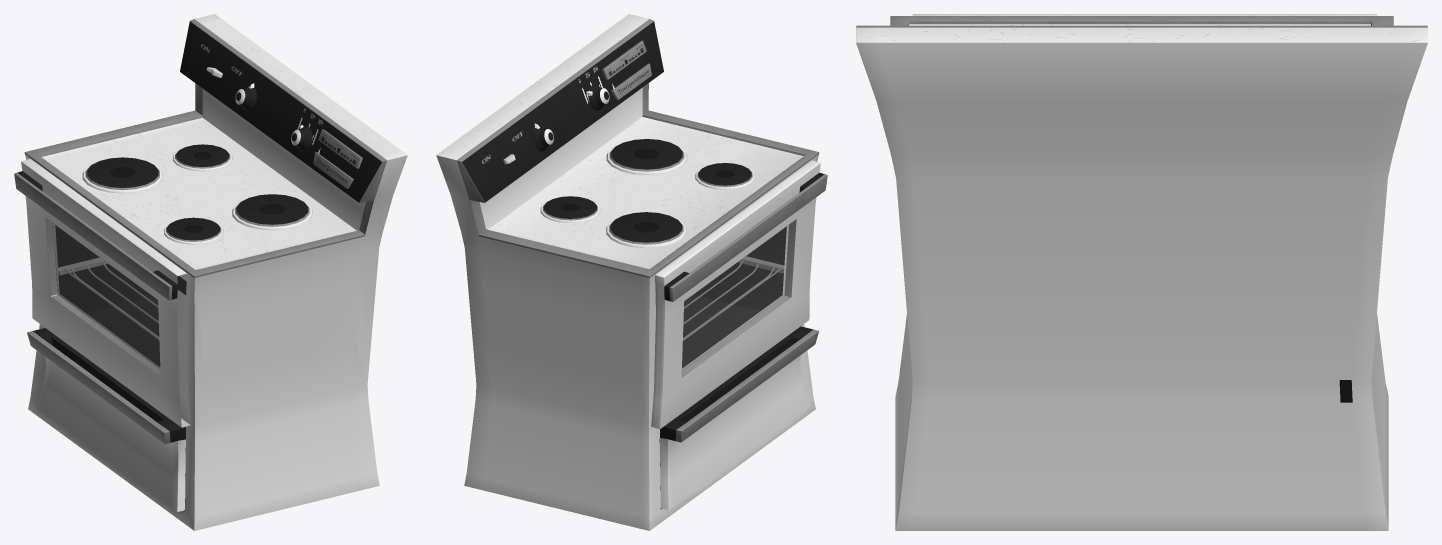
Rendered from oven.fbx.
The picture shows the model from 3 angles, left to right: view 1: azimuth 30°, elevation 25°; view 2: azimuth 150°, elevation 25°; view 3: azimuth 270°, elevation 25°; orthographic projection. The views are drawn at different scales.
Parts seen in each view (by area): view 1: oven, oven door, pots and pans drawer, hob big, hob big004, hob big002, hob big003, temp gauge, metal tray001; view 2: oven, oven door, pots and pans drawer, hob big004, hob big, hob big002, hob big003, temp gauge, metal tray001; view 3: oven, oven door.
Boxes of the visible parts, x1,y1,x2,y2 form: oven: (24, 14, 407, 530); oven door: (14, 159, 190, 427); pots and pans drawer: (27, 328, 185, 511); hob big: (82, 157, 162, 193); hob big004: (232, 194, 312, 230); hob big002: (173, 144, 232, 171); hob big003: (164, 217, 223, 244); temp gauge: (313, 129, 362, 188); metal tray001: (64, 259, 159, 339); oven: (436, 14, 819, 530); oven door: (651, 160, 827, 428); pots and pans drawer: (659, 326, 818, 510); hob big004: (606, 139, 687, 174); hob big: (606, 212, 686, 248); hob big002: (540, 196, 600, 222); hob big003: (695, 163, 754, 189); temp gauge: (602, 40, 651, 100); metal tray001: (683, 258, 781, 340); oven: (856, 16, 1427, 530); oven door: (913, 14, 1377, 15).
Size of the model in its own units: 132 by 194 by 201.
